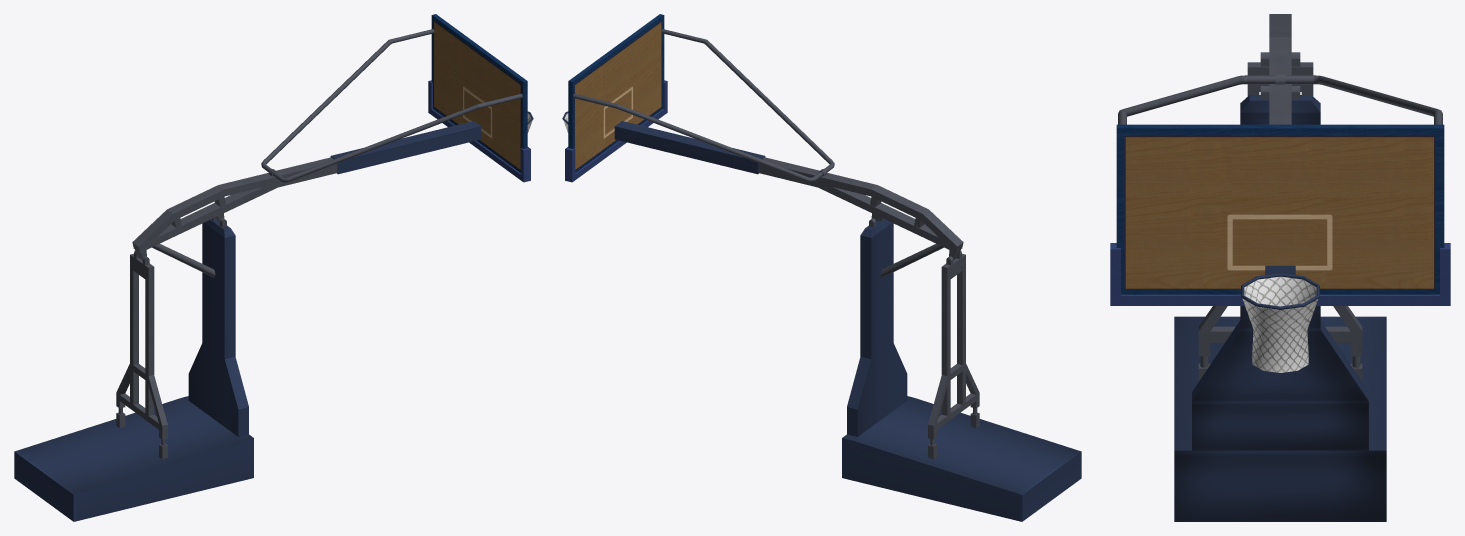
The model's file is Basket_ball_court.fbx.
3 renders of one model, left to right at view 1: azimuth 30°, elevation 25°; view 2: azimuth 150°, elevation 25°; view 3: azimuth 270°, elevation 25°, orthographic. The views are drawn at different scales.
Visible parts, largest first — view 1: stand1; view 2: stand1; view 3: stand1, Net1.
Boxes of the visible parts, x1,y1,x2,y2 form: stand1: (14,14,533,521); stand1: (562,14,1081,521); stand1: (1110,14,1450,521); Net1: (1242,276,1318,372).
Size of what is drawn, in the model's own units: 5.66 by 3.84 by 1.92.
